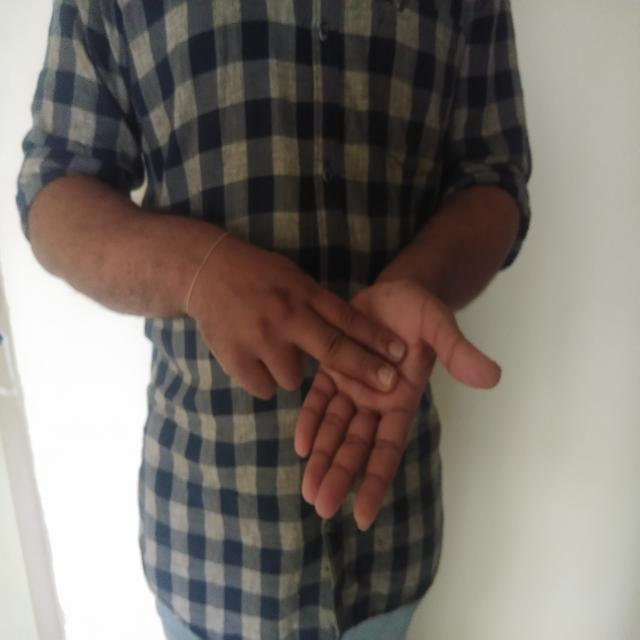N: (181, 208, 510, 548)
